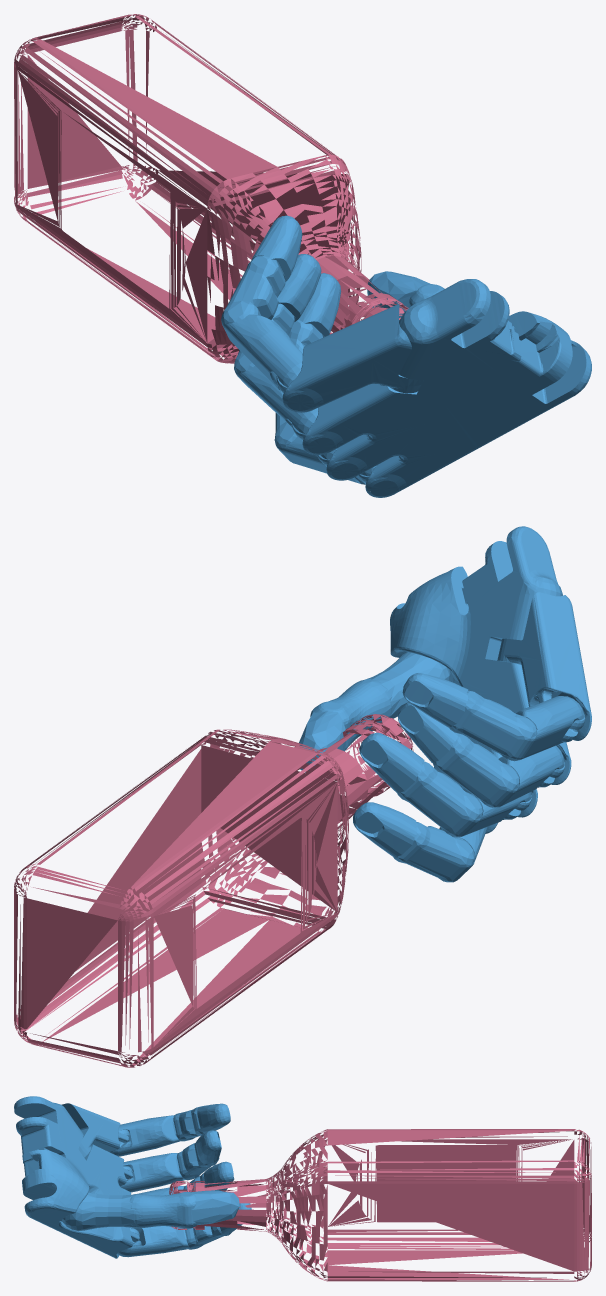
3 views of the same model, one above another, from view 1: azimuth 30°, elevation 25°; view 2: azimuth 150°, elevation 25°; view 3: azimuth 270°, elevation 25° (orthographic). The views are drawn at different scales.
Visible parts, largest first — view 1: 00; view 2: 00; view 3: 00.
Part boxes in pixels (x1,y1,x2,y2): 00: [14, 14, 591, 497]; 00: [14, 526, 591, 1067]; 00: [14, 1096, 591, 1281].
Size of the model in its own units: 0.1225 by 0.1195 by 0.3702.
